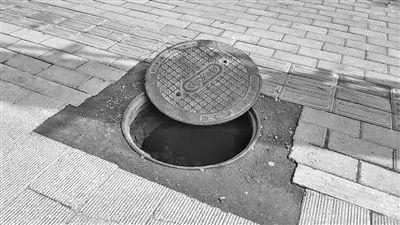wellcover: (120, 29, 275, 179)
